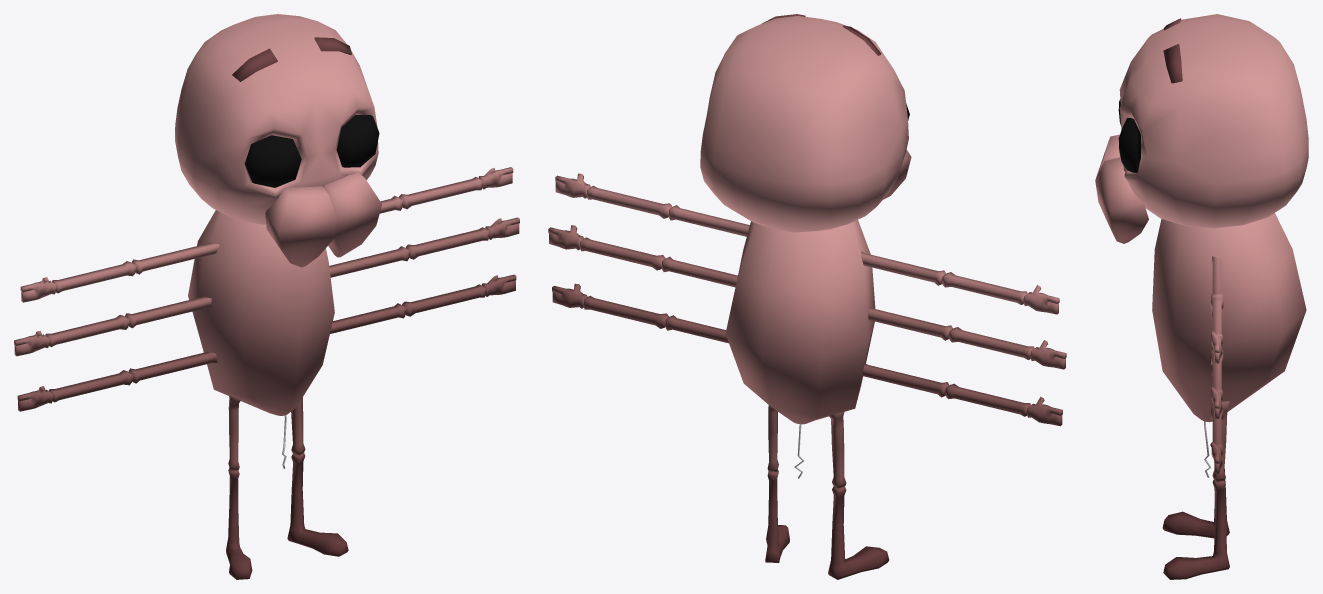
File: Spidey.obj
The picture shows the model from 3 angles, left to right: view 1: azimuth 30°, elevation 25°; view 2: azimuth 150°, elevation 25°; view 3: azimuth 270°, elevation 25°; orthographic projection. The views are drawn at different scales.
Visible parts, largest first — view 1: Spidey; view 2: Spidey; view 3: Spidey.
Part boxes in pixels (x1,y1,x2,y2): Spidey: (14, 14, 519, 579); Spidey: (548, 14, 1066, 579); Spidey: (1095, 14, 1308, 579).
Size of the model in its own units: 238 by 237 by 86.88.
